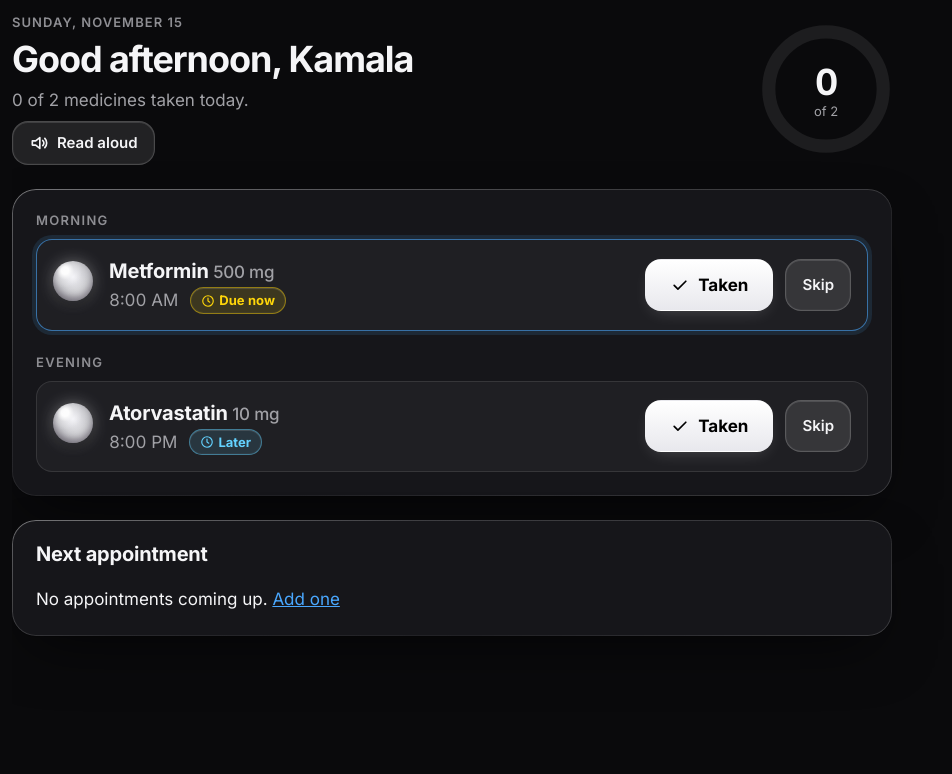
Scenario: Today › rolls back the optimistic update and reports the failure
What coordinates should you click on to do the following:
click the button with aria-label "Mark Metformin as taken"
I would click on:
 (709, 285)
Its box is [645,259,773,311].
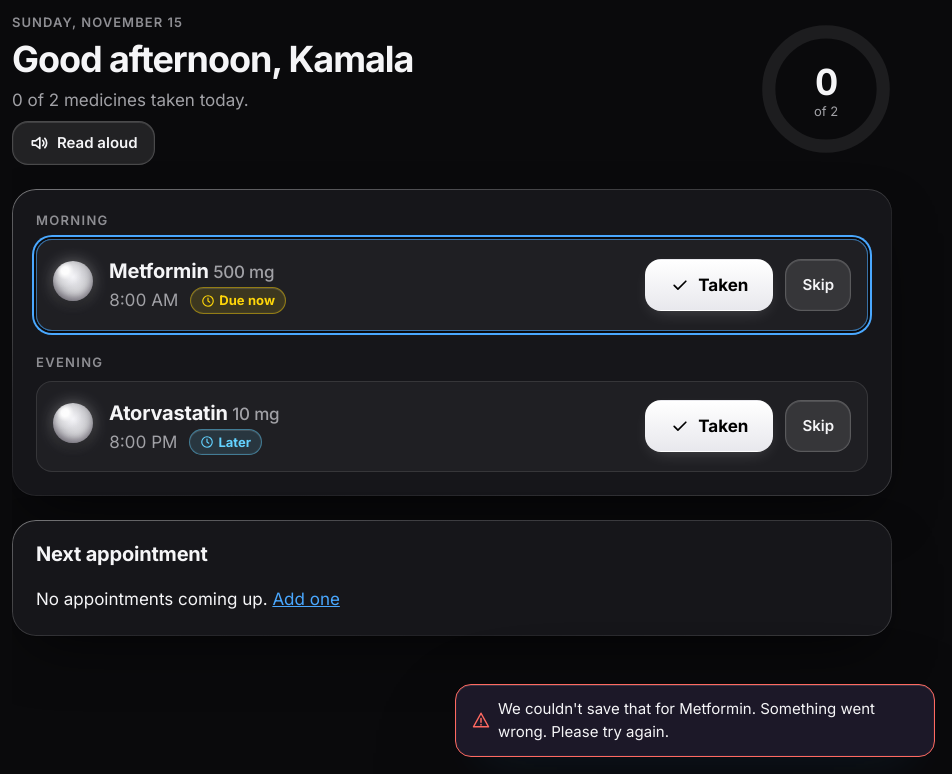
Expected: the list item "Metformin" is shown, [109,259,209,283]
Now the message shows "couldn't save", box [498,698,875,741]
